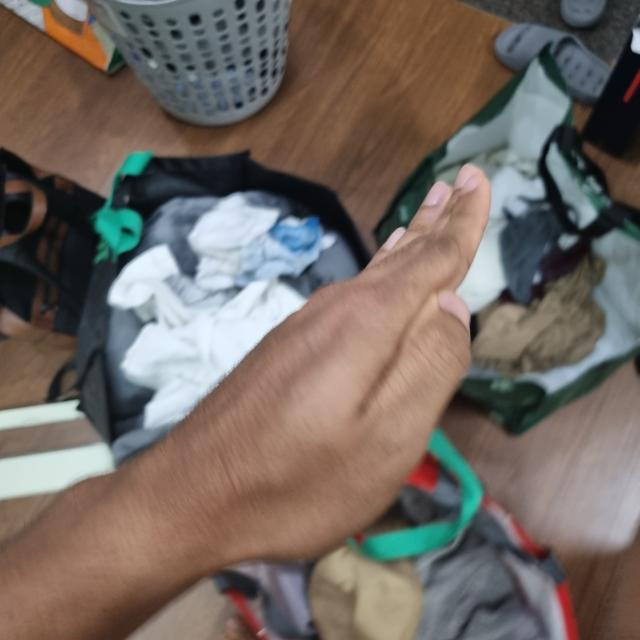Paper: (152, 172, 494, 564)
